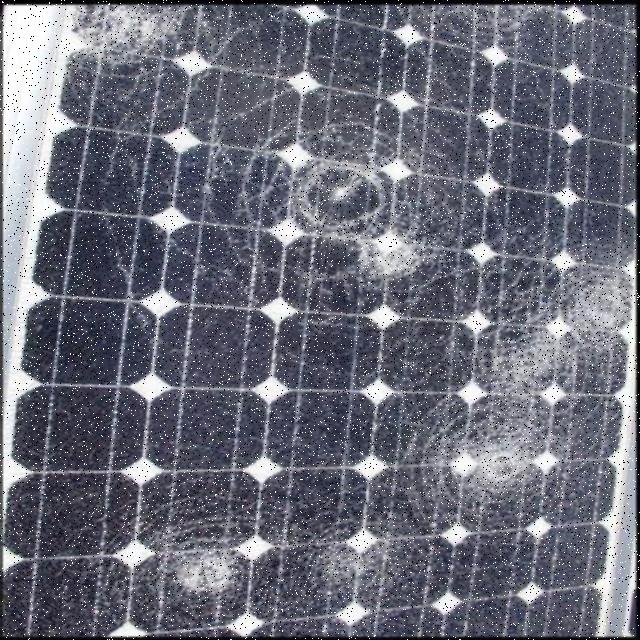clean: (407, 269, 623, 525), (205, 125, 489, 273), (37, 5, 259, 83)
physical damage: (93, 522, 417, 619)
